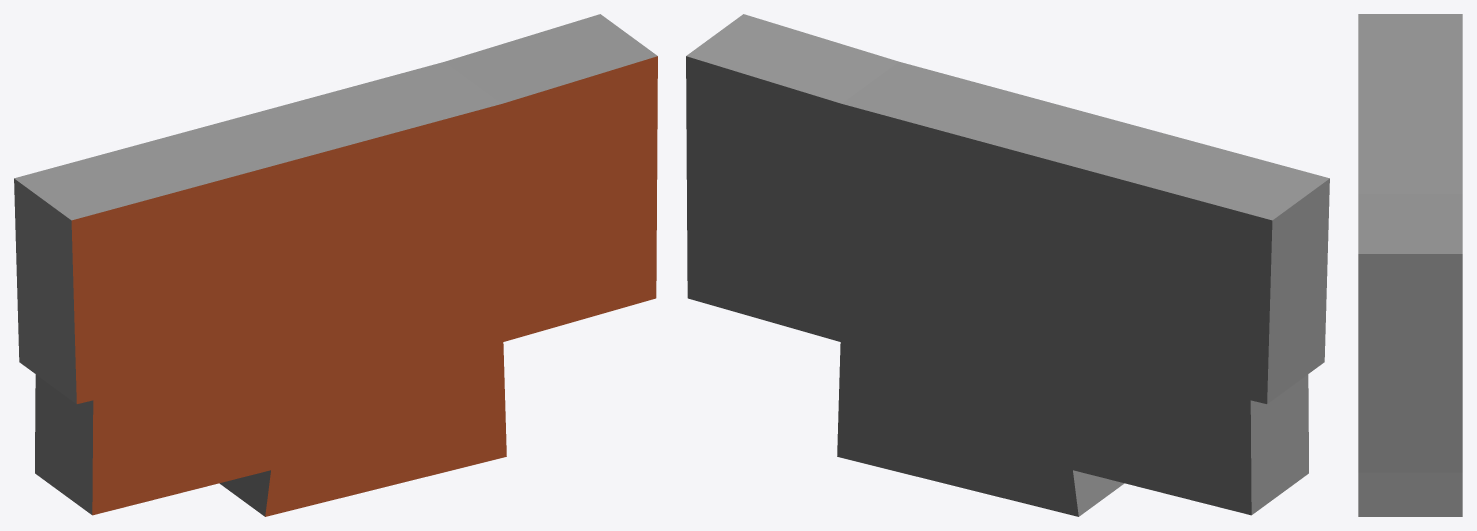
The model's file is construction_6083_assumed_A_Casa_h6m.obj.
3 renders of one model, left to right at view 1: azimuth 30°, elevation 25°; view 2: azimuth 150°, elevation 25°; view 3: azimuth 270°, elevation 25°, orthographic. The views are drawn at different scales.
Visible parts, largest first — view 1: construction_6083_assumed_A_Casa; view 2: construction_6083_assumed_A_Casa; view 3: construction_6083_assumed_A_Casa.
Part boxes in pixels (x1,y1,x2,y2): construction_6083_assumed_A_Casa: (14,14,657,516); construction_6083_assumed_A_Casa: (686,14,1329,516); construction_6083_assumed_A_Casa: (1358,14,1462,516).
Size of the model in its own units: 35.3 by 21 by 6.
